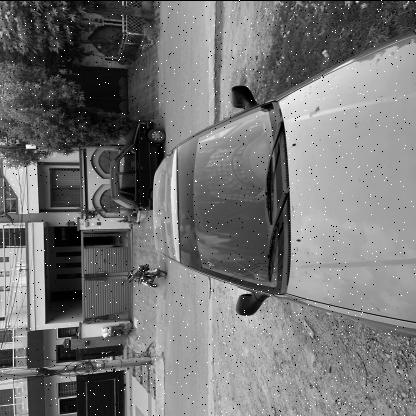no_seatbelt: (192, 146, 258, 186)
